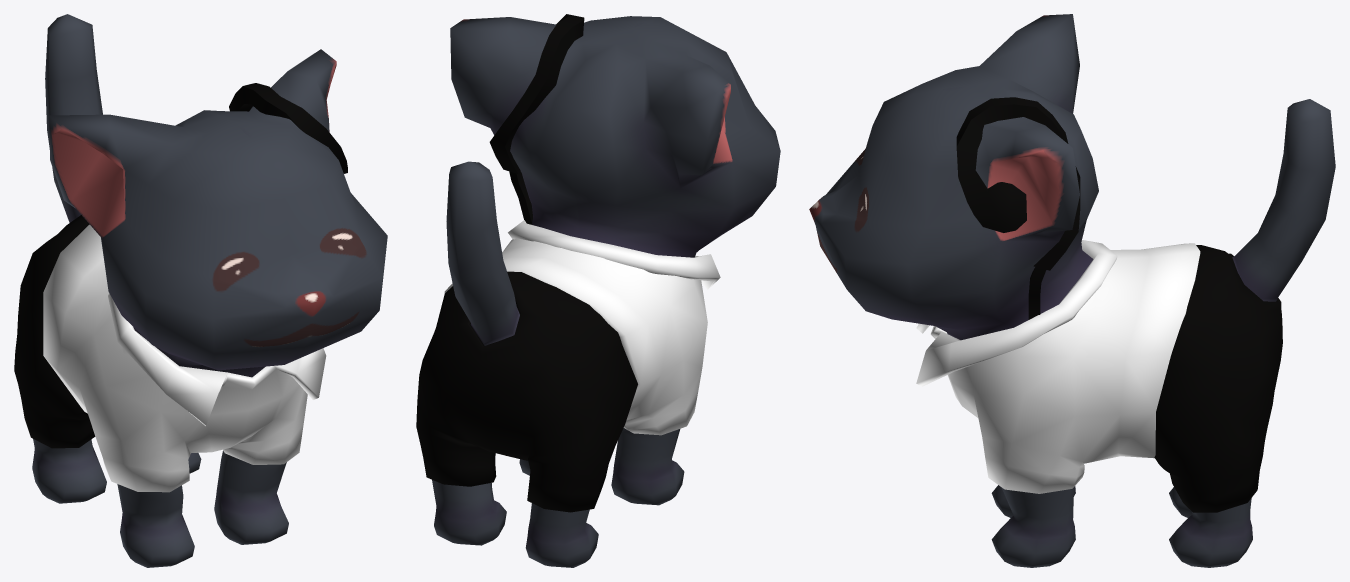
Rendered from Security Cat03.fbx.
3 renders of one model, left to right at view 1: azimuth 30°, elevation 25°; view 2: azimuth 150°, elevation 25°; view 3: azimuth 270°, elevation 25°, orthographic. The views are drawn at different scales.
Visible parts, largest first — view 1: Cat_Base002, Security_Cat_Shirt, Security_Cat_Shorts, Security_Cat_Earpiece; view 2: Cat_Base002, Security_Cat_Shorts, Security_Cat_Shirt, Security_Cat_Earpiece; view 3: Cat_Base002, Security_Cat_Shirt, Security_Cat_Shorts, Security_Cat_Earpiece.
Part boxes in pixels (bbox=[...]): Cat_Base002: bbox=[32, 14, 387, 567]; Security_Cat_Shirt: bbox=[43, 224, 326, 492]; Security_Cat_Shorts: bbox=[14, 215, 95, 448]; Security_Cat_Earpiece: bbox=[229, 83, 347, 173]; Cat_Base002: bbox=[432, 16, 780, 567]; Security_Cat_Shorts: bbox=[416, 271, 637, 512]; Security_Cat_Shirt: bbox=[444, 220, 720, 435]; Security_Cat_Earpiece: bbox=[489, 14, 584, 224]; Cat_Base002: bbox=[809, 14, 1335, 567]; Security_Cat_Shirt: bbox=[916, 240, 1200, 493]; Security_Cat_Shorts: bbox=[1154, 245, 1282, 512]; Security_Cat_Earpiece: bbox=[956, 97, 1080, 319].
Bounding box in the file's own units: 1.75 × 2.83 × 2.71.
Materials: 3 (1 with a texture image).
